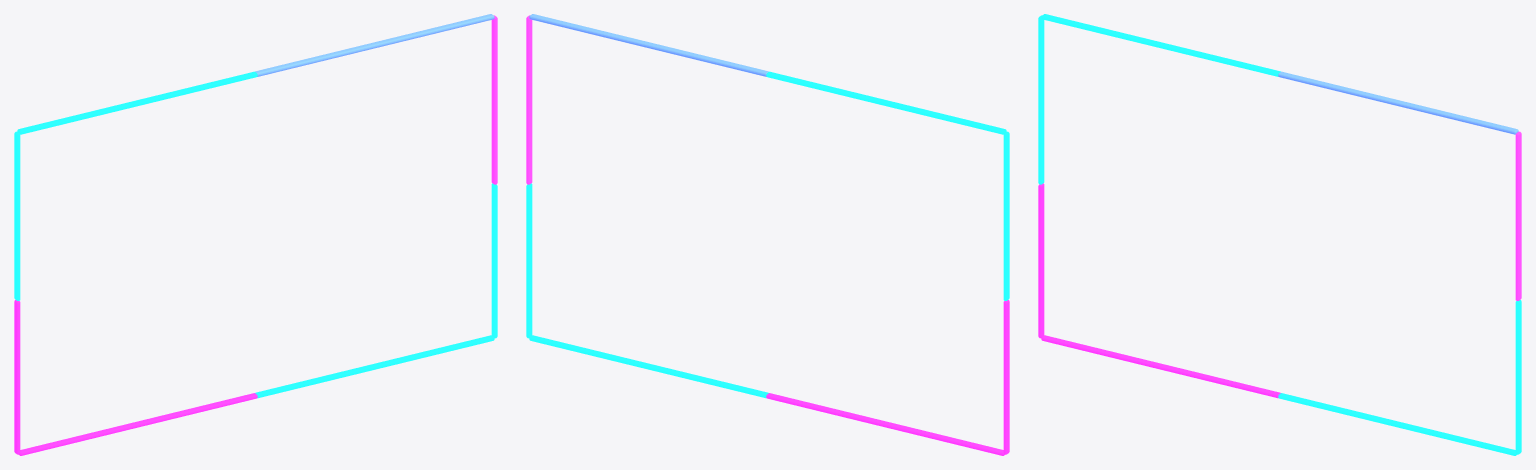
File: infinite_neon_portal_frame.glb
The picture shows the model from 3 angles, left to right: view 1: azimuth 30°, elevation 25°; view 2: azimuth 150°, elevation 25°; view 3: azimuth 330°, elevation 25°; orthographic projection.
Visible parts, largest first — view 1: Portal Top Cyan, Portal Bottom Cyan, Portal Top Blue, Portal Bottom Magenta, Portal Left Upper Cyan, Portal Right Upper Violet, Portal Left Lower Magenta, Portal Right Lower Cyan; view 2: Portal Top Cyan, Portal Bottom Cyan, Portal Top Blue, Portal Bottom Magenta, Portal Left Upper Cyan, Portal Right Upper Violet, Portal Left Lower Magenta, Portal Right Lower Cyan; view 3: Portal Top Blue, Portal Bottom Magenta, Portal Top Cyan, Portal Bottom Cyan, Portal Right Upper Violet, Portal Left Upper Cyan, Portal Right Lower Cyan, Portal Left Lower Magenta.
Boxes of the visible parts, <box> form: Portal Top Cyan: <box>17,71,257,134</box>; Portal Bottom Cyan: <box>255,335,494,398</box>; Portal Top Blue: <box>255,14,494,76</box>; Portal Bottom Magenta: <box>19,393,257,455</box>; Portal Left Upper Cyan: <box>14,131,20,300</box>; Portal Right Upper Violet: <box>491,15,497,184</box>; Portal Left Lower Magenta: <box>14,300,20,454</box>; Portal Right Lower Cyan: <box>491,183,497,338</box>; Portal Top Cyan: <box>766,71,1006,134</box>; Portal Bottom Cyan: <box>529,335,768,398</box>; Portal Top Blue: <box>529,14,768,76</box>; Portal Bottom Magenta: <box>766,393,1004,455</box>; Portal Left Upper Cyan: <box>1003,131,1009,300</box>; Portal Right Upper Violet: <box>526,15,532,184</box>; Portal Left Lower Magenta: <box>1003,300,1009,454</box>; Portal Right Lower Cyan: <box>526,183,532,338</box>; Portal Top Blue: <box>1278,71,1518,134</box>; Portal Bottom Magenta: <box>1041,335,1280,398</box>; Portal Top Cyan: <box>1041,14,1280,76</box>; Portal Bottom Cyan: <box>1278,393,1516,455</box>; Portal Right Upper Violet: <box>1515,131,1521,300</box>; Portal Left Upper Cyan: <box>1038,15,1044,184</box>; Portal Right Lower Cyan: <box>1515,300,1521,454</box>; Portal Left Lower Magenta: <box>1038,183,1044,338</box>.
Size of the model in its own units: 11.99 by 7.76 by 0.16.
